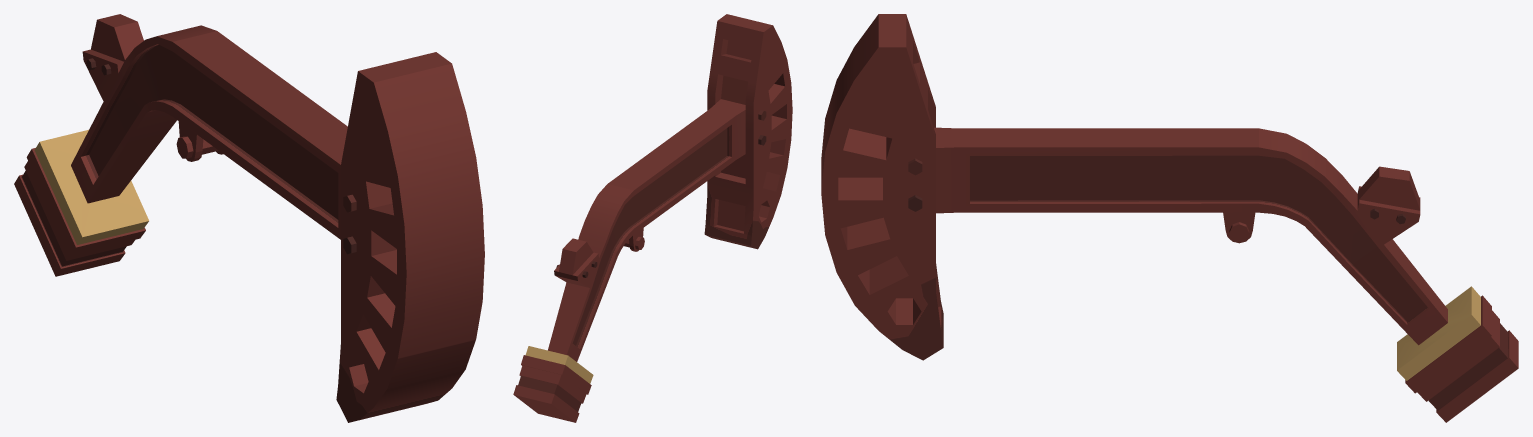
File: SM_Prop_Pipline_OilPump_Arm_01.fbx
3 views of the same model, side by side, from view 1: azimuth 30°, elevation 25°; view 2: azimuth 150°, elevation 25°; view 3: azimuth 270°, elevation 25° (orthographic). The views are drawn at different scales.
Visible parts, largest first — view 1: SM_Prop_Pipline_OilPump_Arm_01; view 2: SM_Prop_Pipline_OilPump_Arm_01; view 3: SM_Prop_Pipline_OilPump_Arm_01.
Boxes of the visible parts, x1=… form: SM_Prop_Pipline_OilPump_Arm_01: x1=14, y1=14, x2=484, y2=422; SM_Prop_Pipline_OilPump_Arm_01: x1=513, y1=14, x2=792, y2=422; SM_Prop_Pipline_OilPump_Arm_01: x1=821, y1=14, x2=1518, y2=422.
Size of the model in its own units: 87.32 by 406 by 678.
